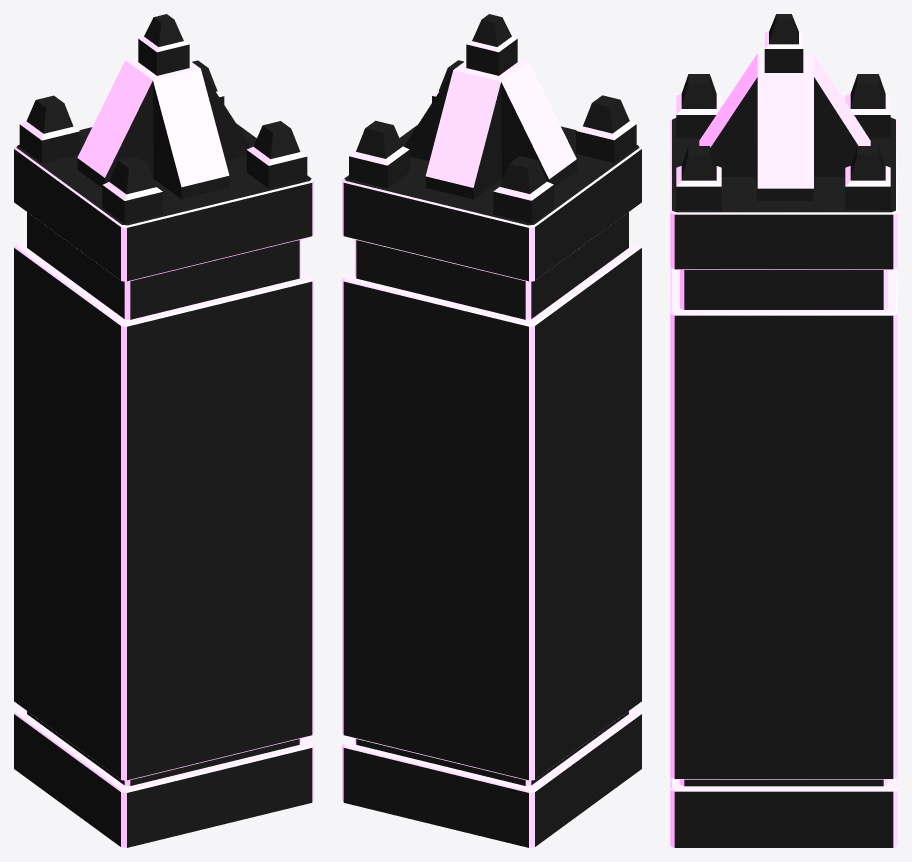
The picture shows the model from 3 angles, left to right: view 1: azimuth 30°, elevation 25°; view 2: azimuth 150°, elevation 25°; view 3: azimuth 270°, elevation 25°; orthographic projection. The views are drawn at different scales.
Visible parts, largest first — view 1: Box018; view 2: Box018; view 3: Box018.
Part boxes in pixels (left/top/right/bottom): Box018: left=14, top=14, right=313, bottom=847; Box018: left=342, top=14, right=641, bottom=847; Box018: left=670, top=14, right=897, bottom=847.
Bounding box in the file's own units: 390 × 1482 × 390.
